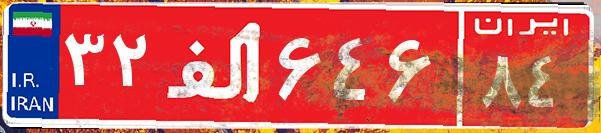2: (110, 28, 158, 105)
3: (57, 26, 110, 107)
4: (330, 28, 385, 110), (525, 38, 570, 115)
6: (385, 28, 445, 110), (273, 28, 330, 110)
8: (475, 38, 525, 113)
الف: (158, 15, 273, 115)
